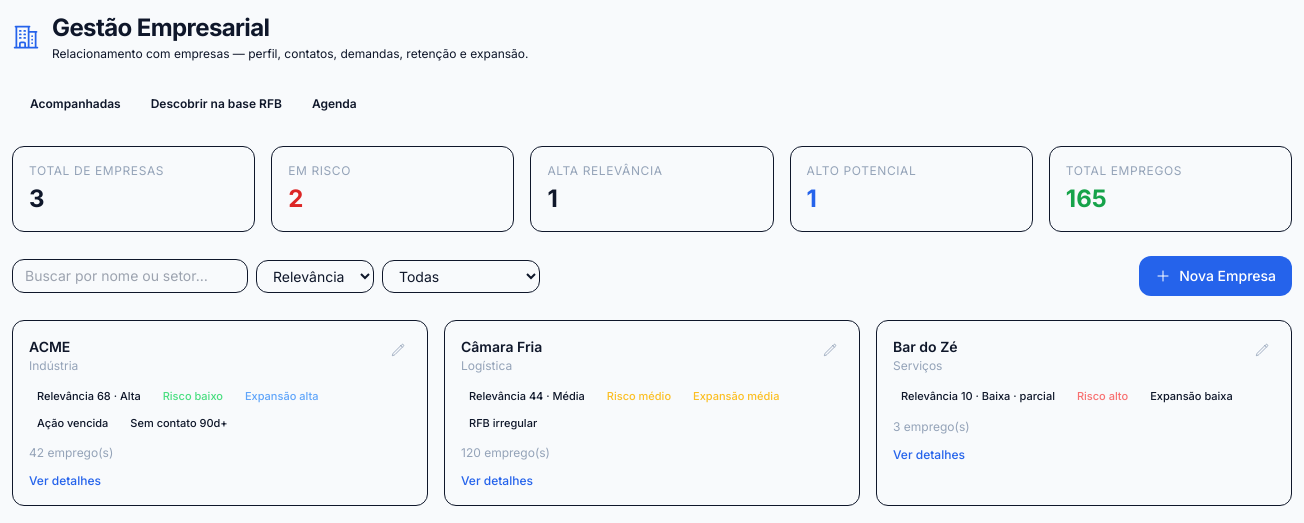
Scenario: GestaoEmpresarialTab — aba Descobrir na base RFB › Acompanhadas por padrão; a aba Descobrir carrega a base RFB e esconde os cards
Check: the button "ACME" is shown, box [29,338,70,355]
Click the tab "Descobrir na base RFB": (216, 104) [137,90,296,118]
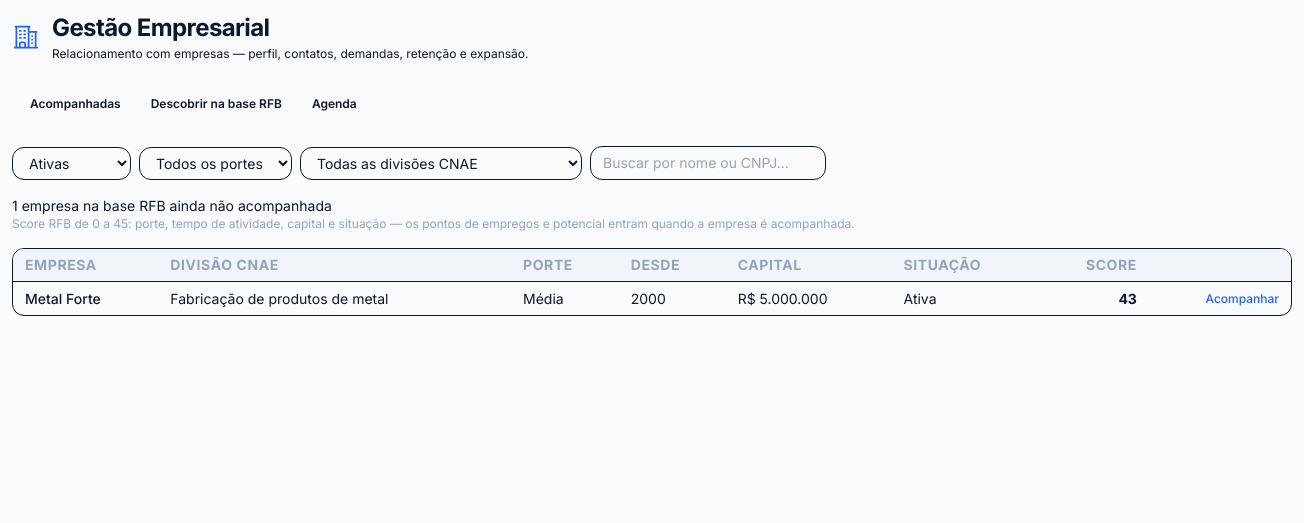
Check: the text "Metal Forte" is shown, box [25,290,101,306]
Check: the button "ACME" is gone
Click the tab "Acompanhadas": (75, 104) [16,90,135,118]
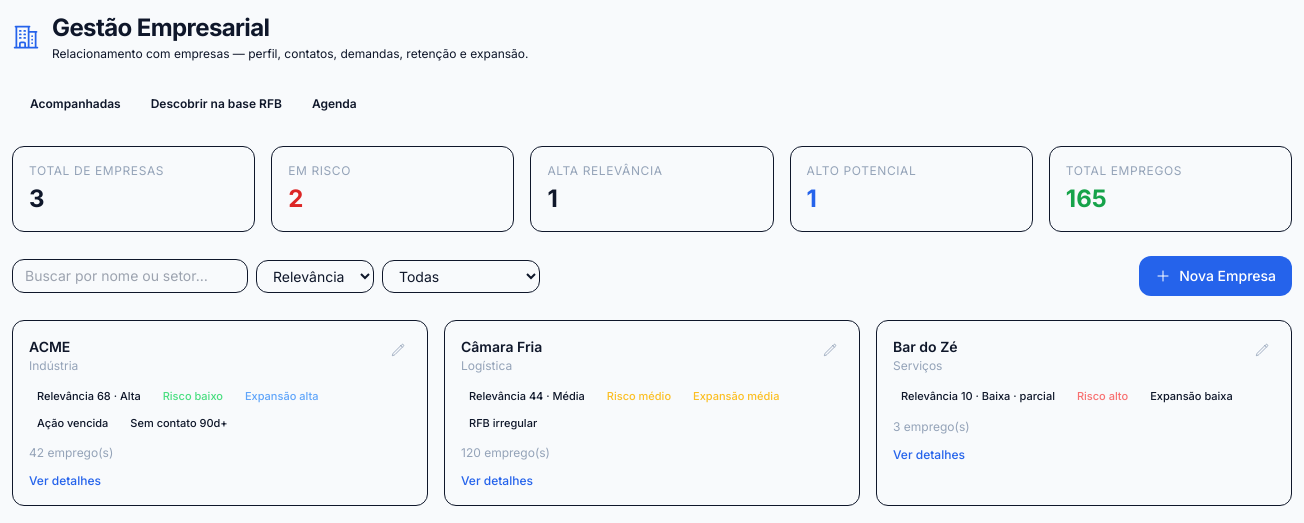
Check: the button "ACME" is shown, box [29,338,70,355]
